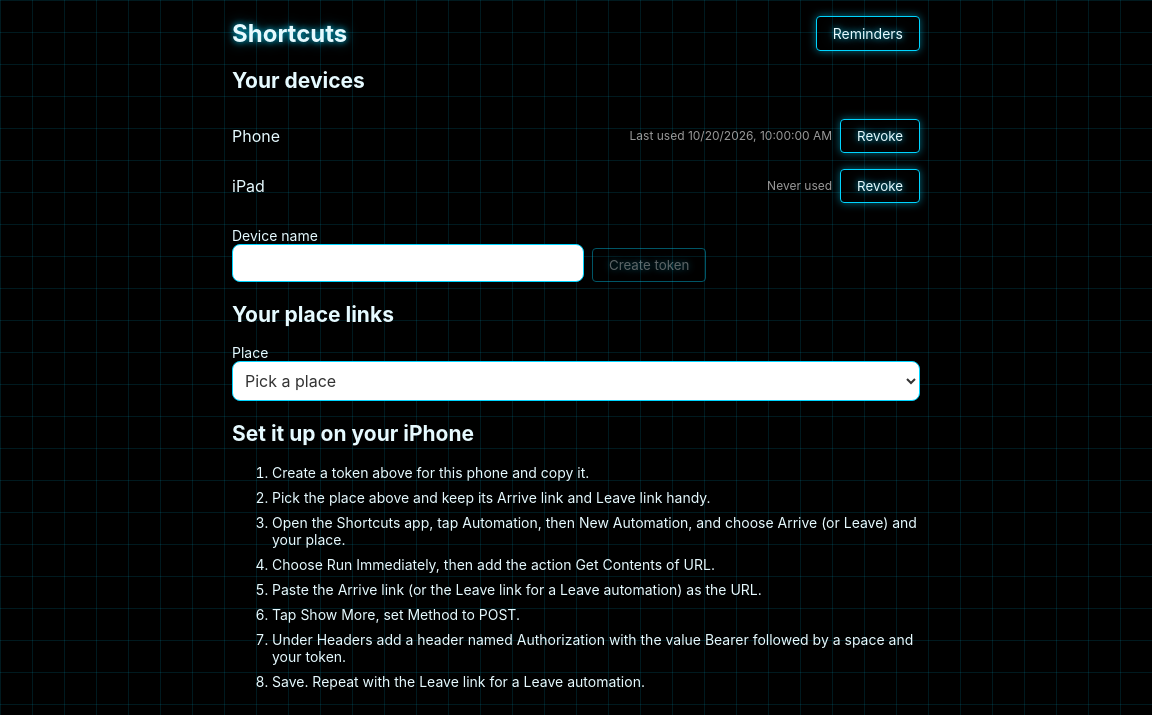
Test case: ShortcutsPage › picking a place shows its arrive and leave URLs
Expected: the text "place-events" is not shown
Select "Shop" in the dropdown labelled "Place" at (576, 381), box [232,361,920,401]
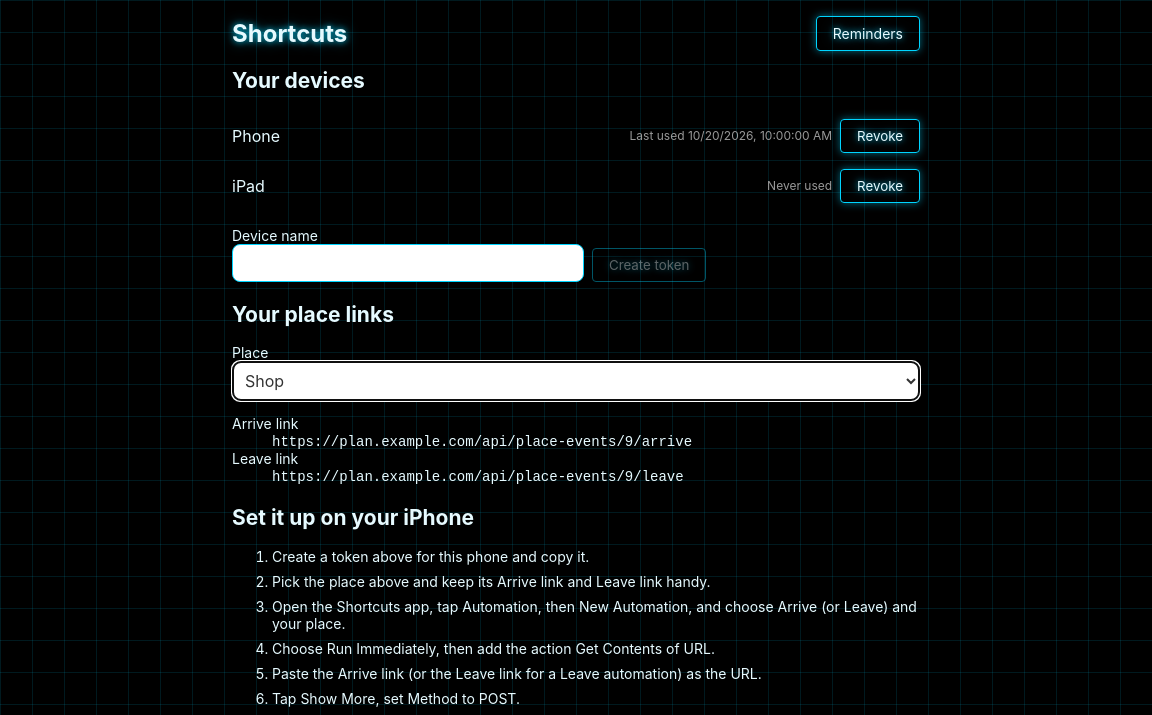
Expected: the text "https://plan.example.com/api/place-events/9/arrive" is shown, [272,434,692,450]
Expected: the text "https://plan.example.com/api/place-events/9/leave" is shown, [272,469,684,485]
